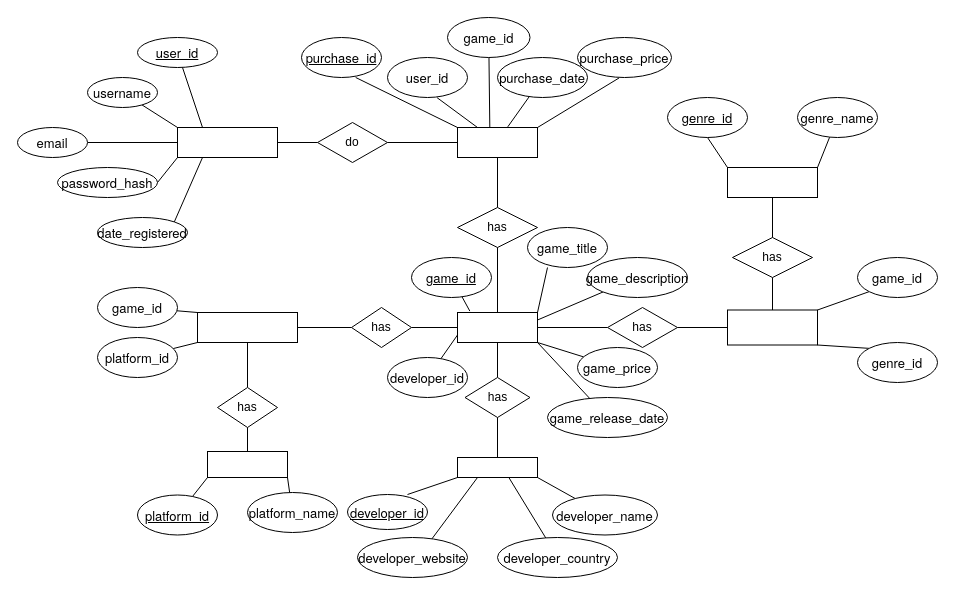
Image size: 955x595. Some labels were removed from this diagram. The centre of each missing label's shape, as x and y in pixels:
"Developers" belongs at [497,467].
"Game_Genres" belongs at [772,327].
"Game_Platforms" belongs at [247,327].
"Games" belongs at [497,327].
"Genres" belongs at [772,182].
"Platforms" belongs at [247,464].
"Purchases" belongs at [497,142].
"Users" belongs at [227,142].
